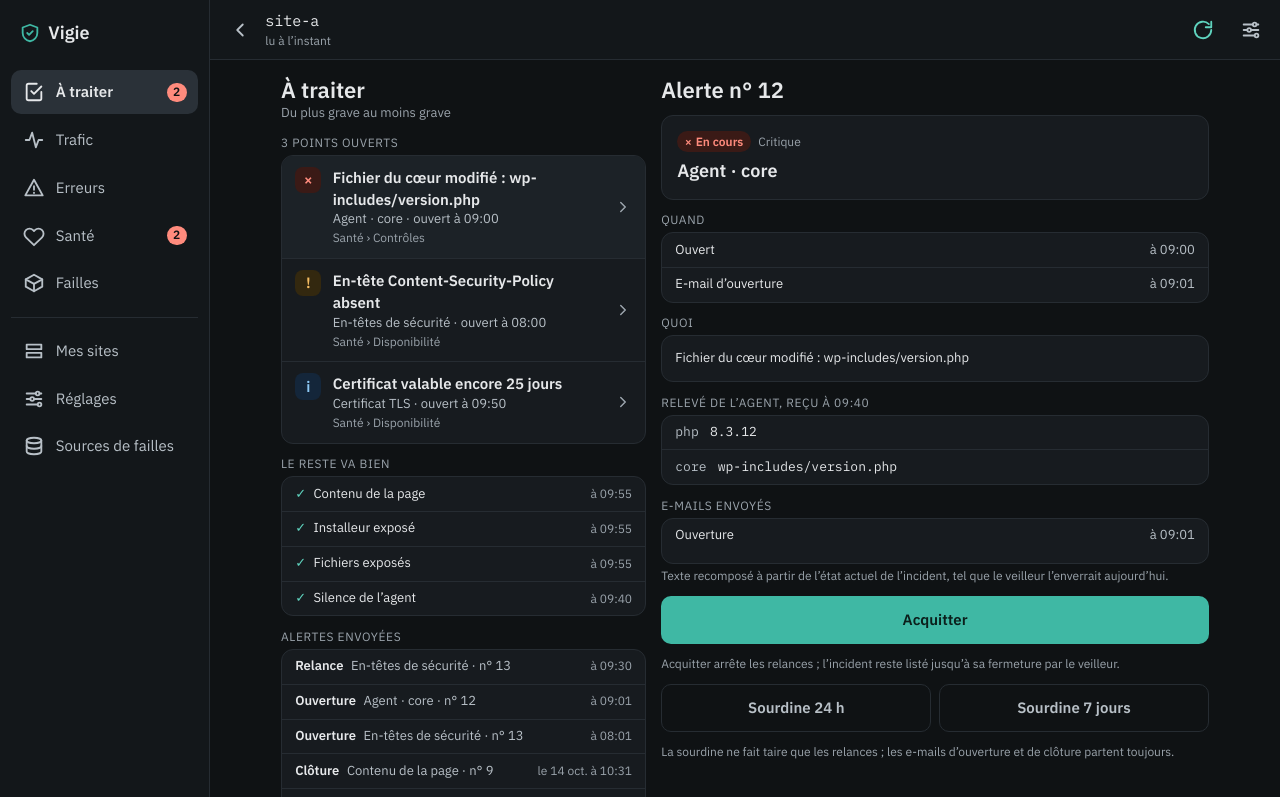
Alerte › Acquitter passe la puce à « Acquitté à HH:MM » et l’incident reste listé
The image size is (1280, 797).
Expected: the element that starts with "En cours" is shown, [696,134,743,149]
Expected: the element that starts with "En cours" shows "8.3.12", [710,423,757,440]
Click the button "Acquitter": point(935, 620) [661,596,1209,644]
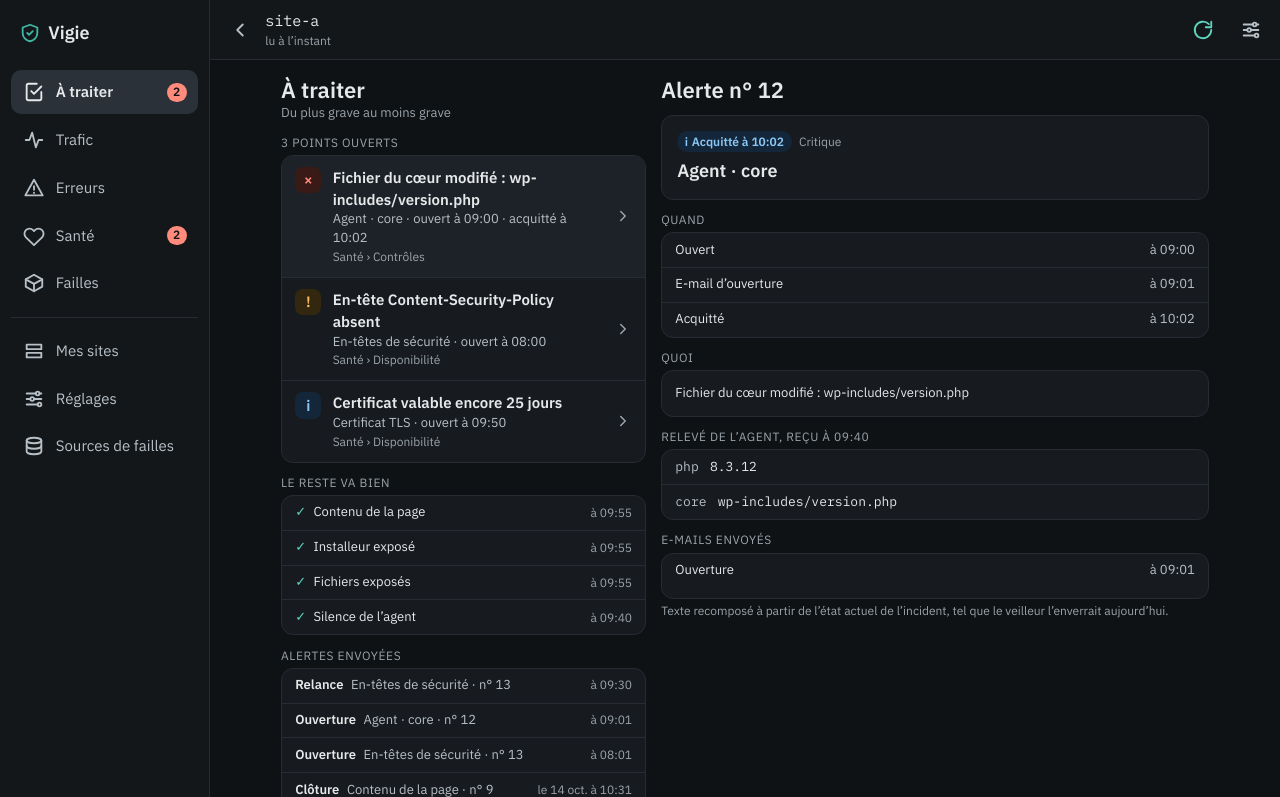
Now the element that starts with "Acquitté à 10:02" is shown, box [692,134,784,149]
Now the text "acquitté à 10:02" is shown, box [282,156,645,277]
